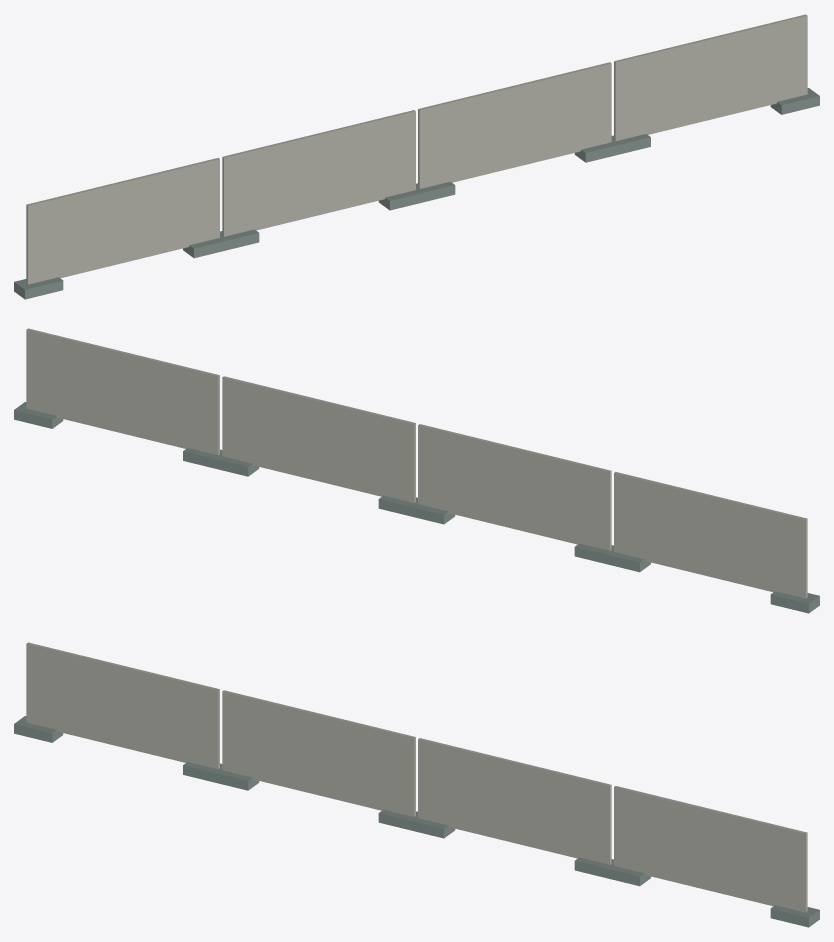
Rendered from SM_Vallas_v0_Obra_LOD0.fbx.
3 renders of one model, top to bottom at view 1: azimuth 30°, elevation 25°; view 2: azimuth 150°, elevation 25°; view 3: azimuth 330°, elevation 25°, orthographic.
Parts seen in each view (by area): view 1: SM_ambiente_aerodromo_v20_LOD0; view 2: SM_ambiente_aerodromo_v20_LOD0; view 3: SM_ambiente_aerodromo_v20_LOD0.
Part boxes in pixels (<box>): SM_ambiente_aerodromo_v20_LOD0: <box>14,14,819,299</box>; SM_ambiente_aerodromo_v20_LOD0: <box>14,328,819,613</box>; SM_ambiente_aerodromo_v20_LOD0: <box>14,642,819,927</box>.
Bounding box in the file's own units: 10.35 × 1.1 × 0.25.
